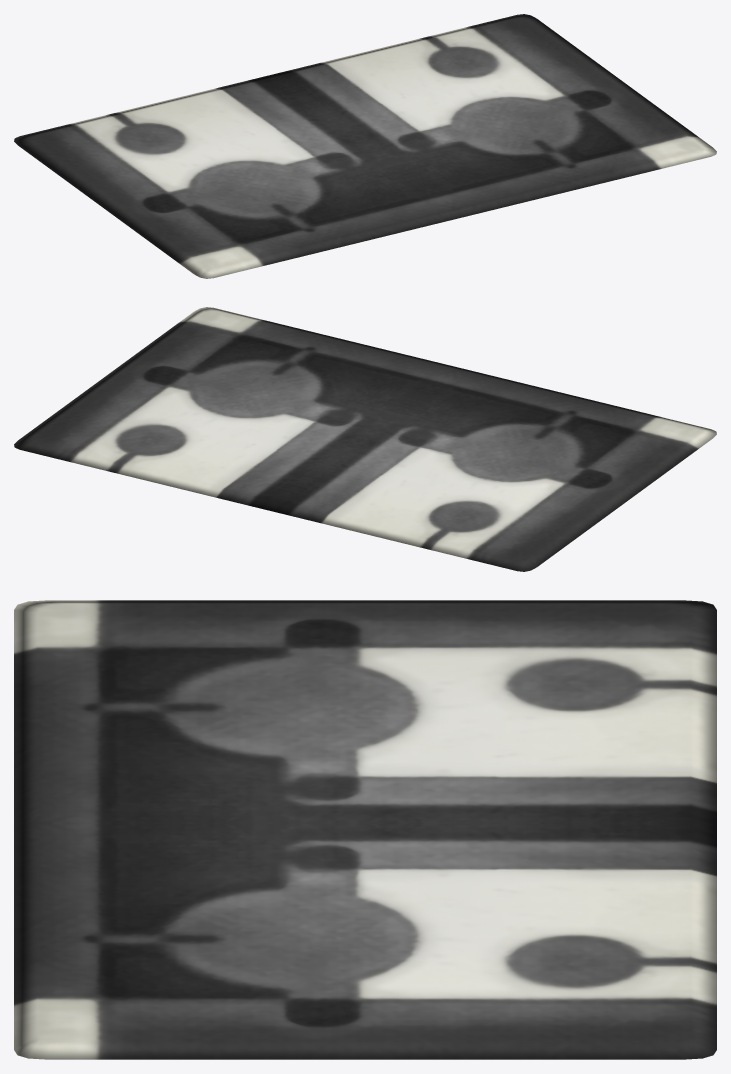
File: MidcenturyCarpet_HD.fbx
3 renders of one model, top to bottom at view 1: azimuth 30°, elevation 25°; view 2: azimuth 150°, elevation 25°; view 3: azimuth 270°, elevation 25°, orthographic. The views are drawn at different scales.
Parts seen in each view (by area): view 1: MidcenturyCarpet; view 2: MidcenturyCarpet; view 3: MidcenturyCarpet.
Boxes of the visible parts, bbox=[...] form: MidcenturyCarpet: bbox=[14, 14, 716, 278]; MidcenturyCarpet: bbox=[14, 307, 716, 571]; MidcenturyCarpet: bbox=[14, 600, 716, 1059].
Size of the model in its own units: 2.72 by 0.0188 by 1.76.
